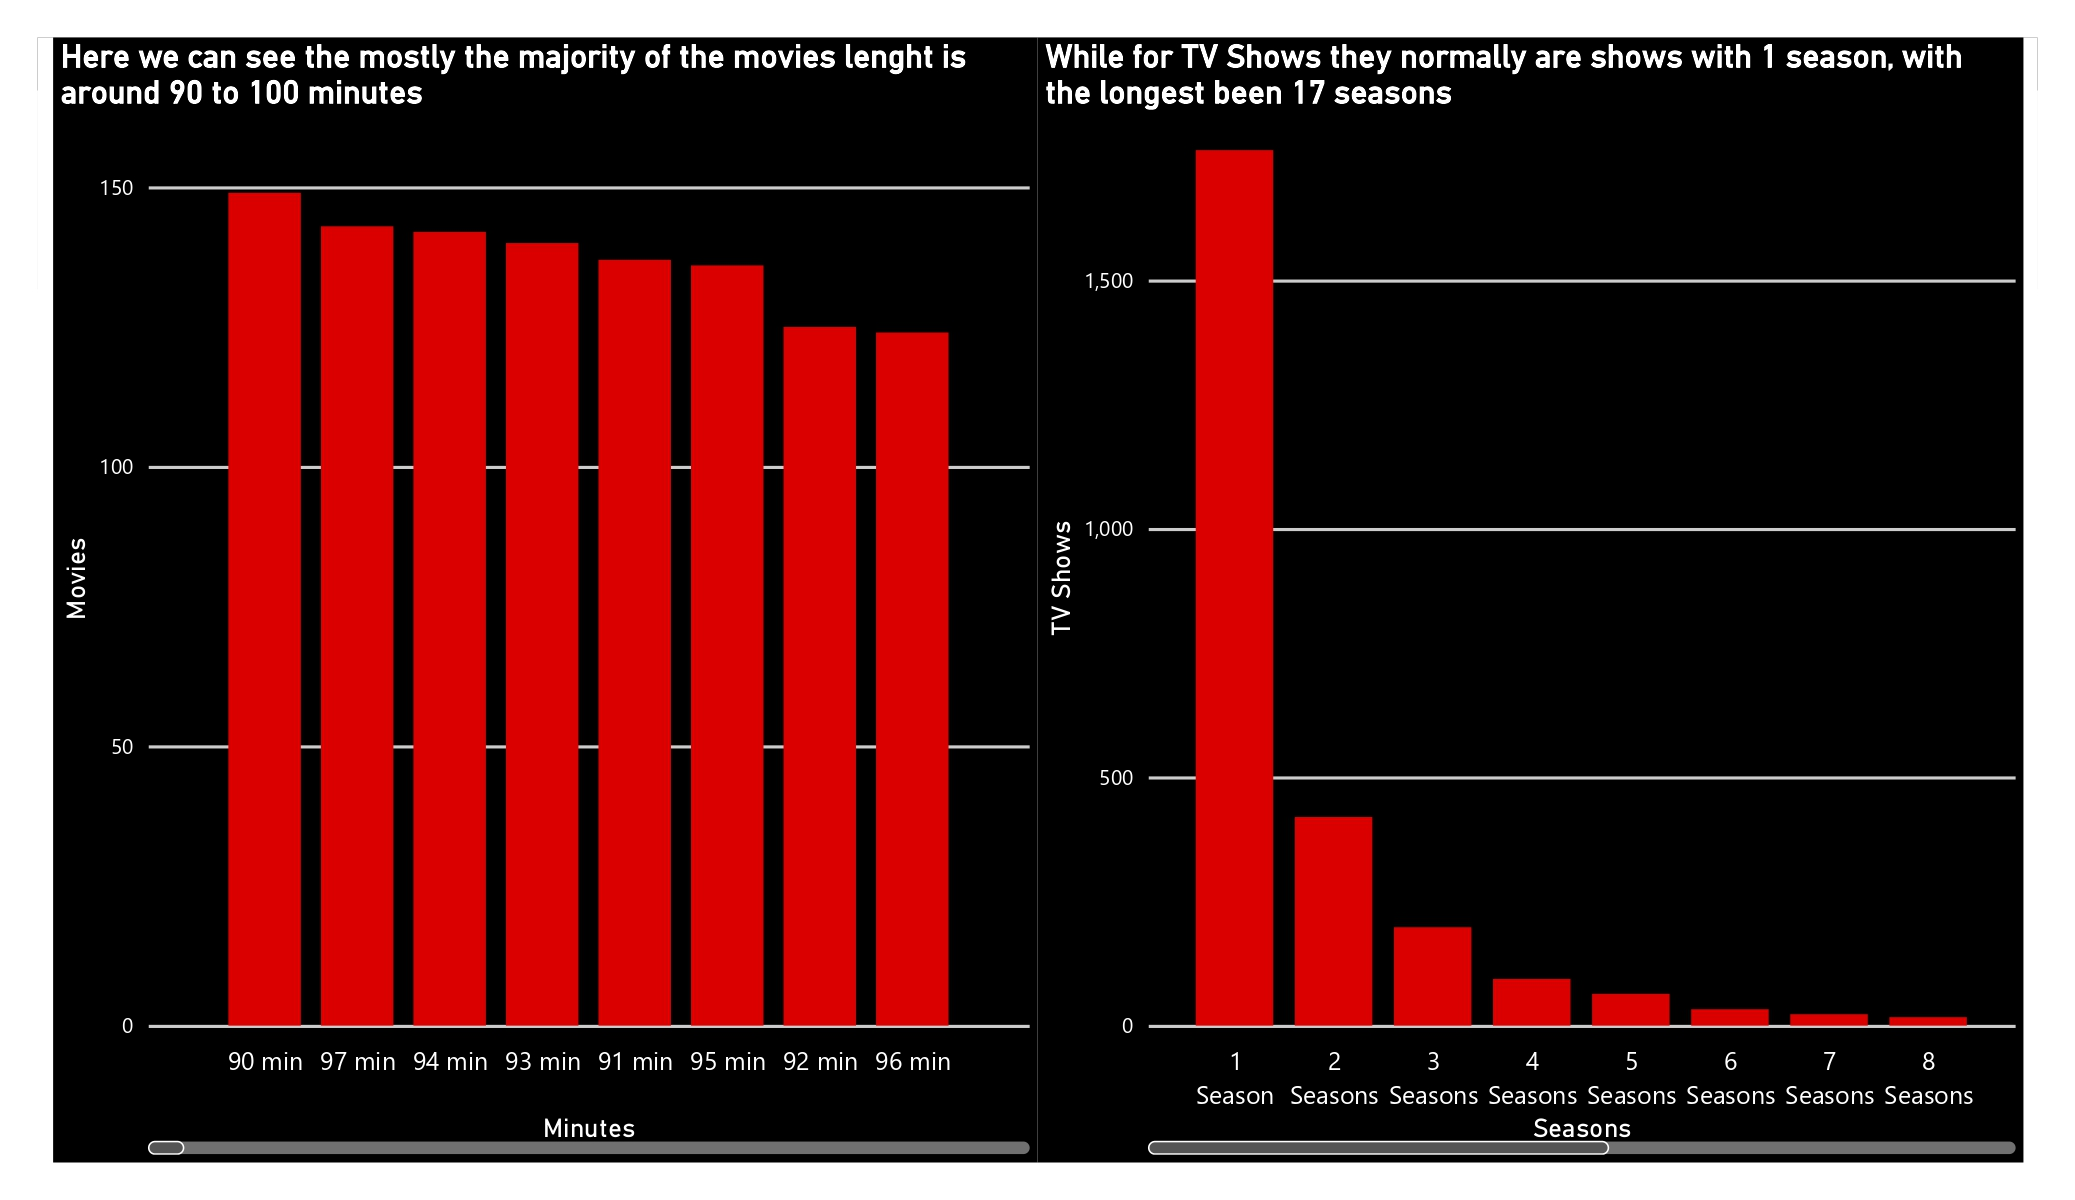

Layout of this report page (visuals, bound fields, positions):
{"tool":"powerbi","page":{"name":"Duration and Seasons","canvas":[1280,720],"ordinal":1},"visuals":[{"type":"clusteredColumnChart","title":"Here we can see the mostly the majority of the movies lenght is around 90 to 100 minutes ","fields":{"Y":["CountNonNull(2024-02-22T19_55_47+00_00_ttjs.type)"],"Category":["2024-02-22T19_55_47+00_00_ttjs.duration"]},"box":[9.6,0,630.7,719.8],"z":0},{"type":"clusteredColumnChart","title":"While for TV Shows they normally are shows with 1 season, with the longest been 17 seasons","fields":{"Y":["CountNonNull(2024-02-22T19_55_47+00_00_ttjs.type)"],"Category":["2024-02-22T19_55_47+00_00_ttjs.duration"]},"box":[640.3,0,630.7,719.8],"z":1000}]}

Visuals, with their boxes on the page's 1280x720 design canvas (x1, y1, x2, y2). These are canvas units, not pixel positions in the 2075x1200 screenshot, which may show the page scaled, cropped or inside an application window:
"Here we can see the mostly the majority of the movies lenght is around 90 to 100 minutes " clusteredColumnChart: rect(10, 0, 640, 720)
"While for TV Shows they normally are shows with 1 season, with the longest been 17 seasons" clusteredColumnChart: rect(640, 0, 1271, 720)
